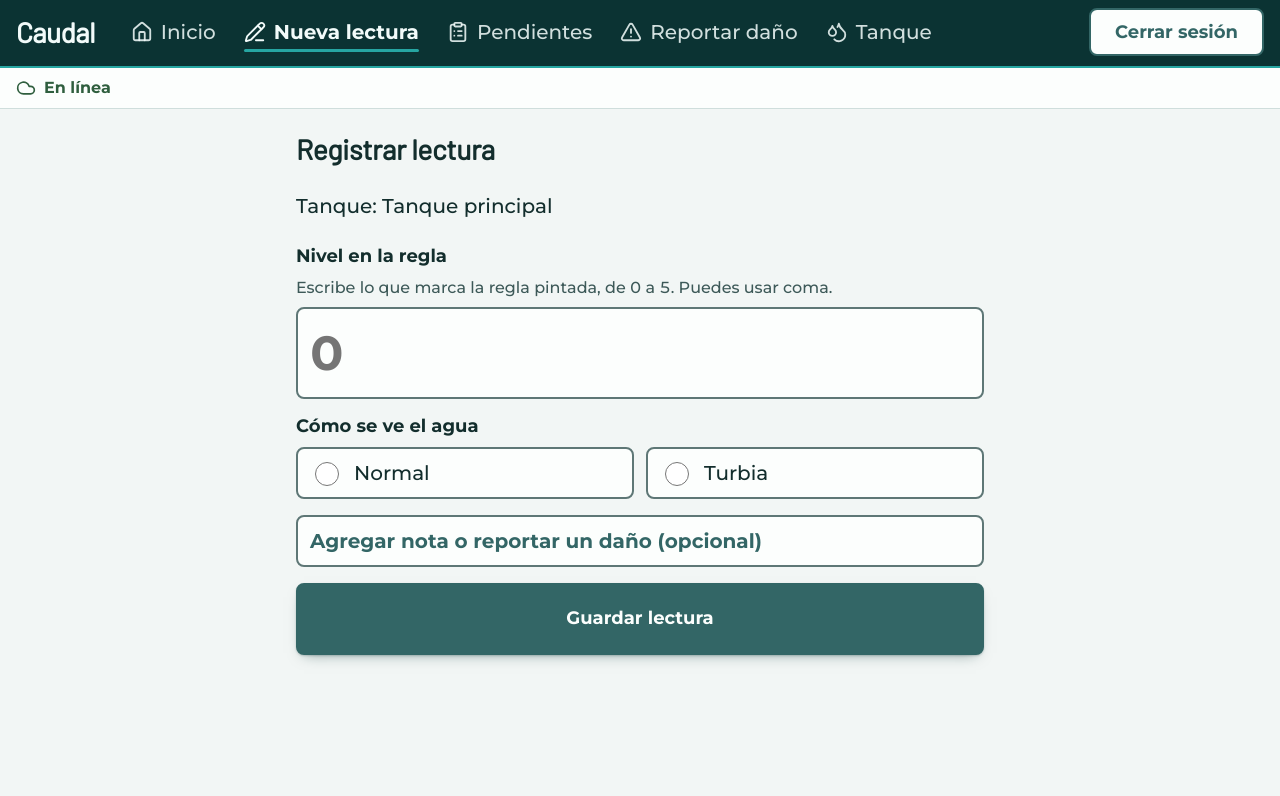
Scenario: ReadingPage (S02) › keeps the note and the damage behind a disclosure until the person opens it
Click the heading "Agregar nota o reportar un daño (opcional)" at (536, 541), box [310,529,762,553]
(page scrolled)
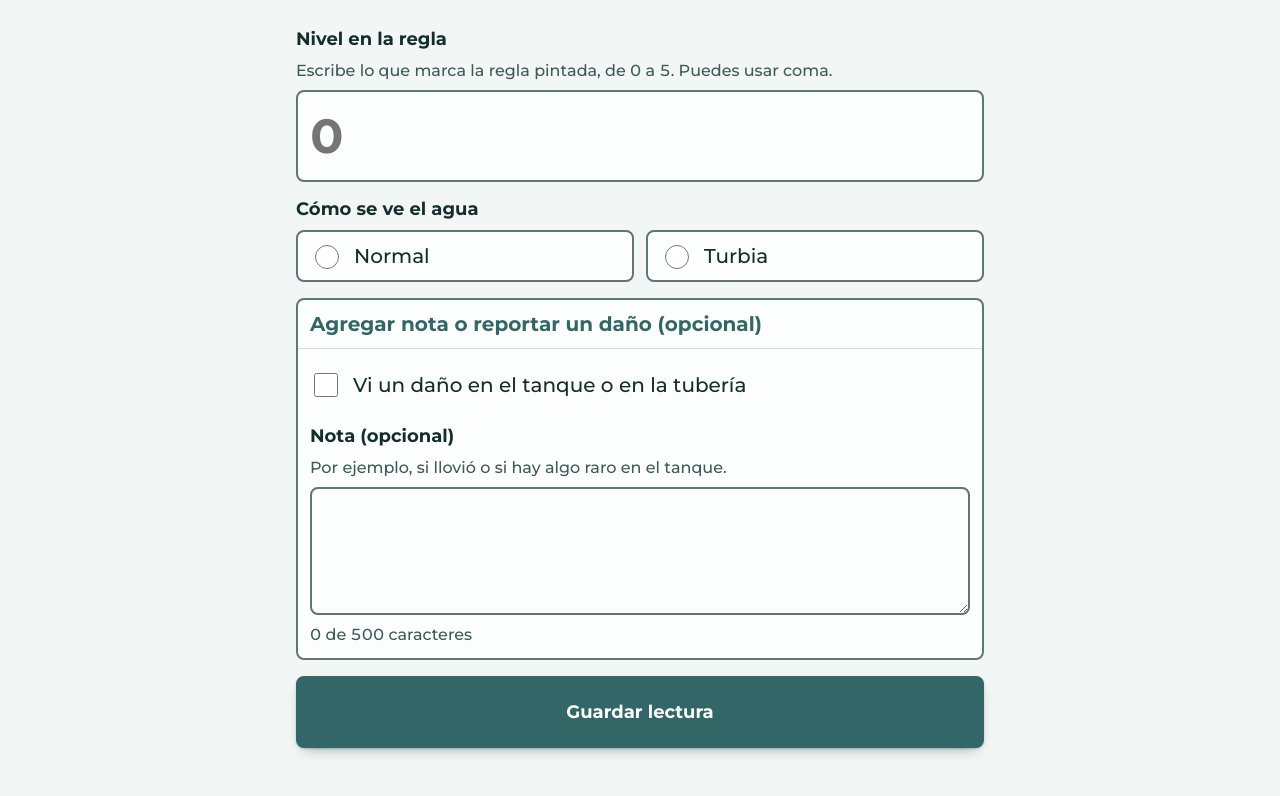
Result: the text box labelled "Nota (opcional)" is shown at [310,487,970,615]
